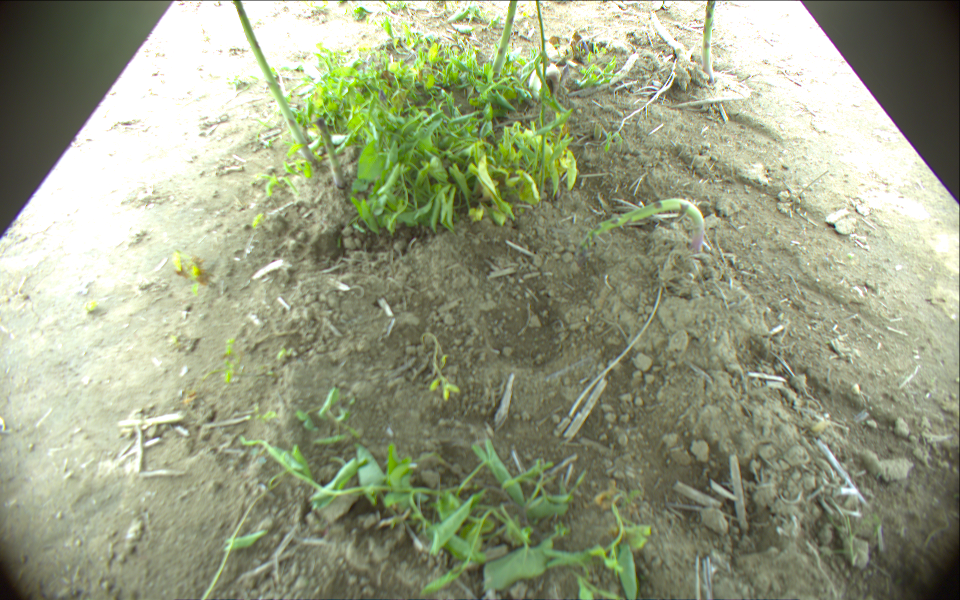aspa: (232, 1, 318, 163), (590, 197, 710, 253), (488, 1, 518, 79), (317, 118, 347, 189), (534, 1, 549, 113), (702, 1, 720, 85), (651, 11, 685, 53)
